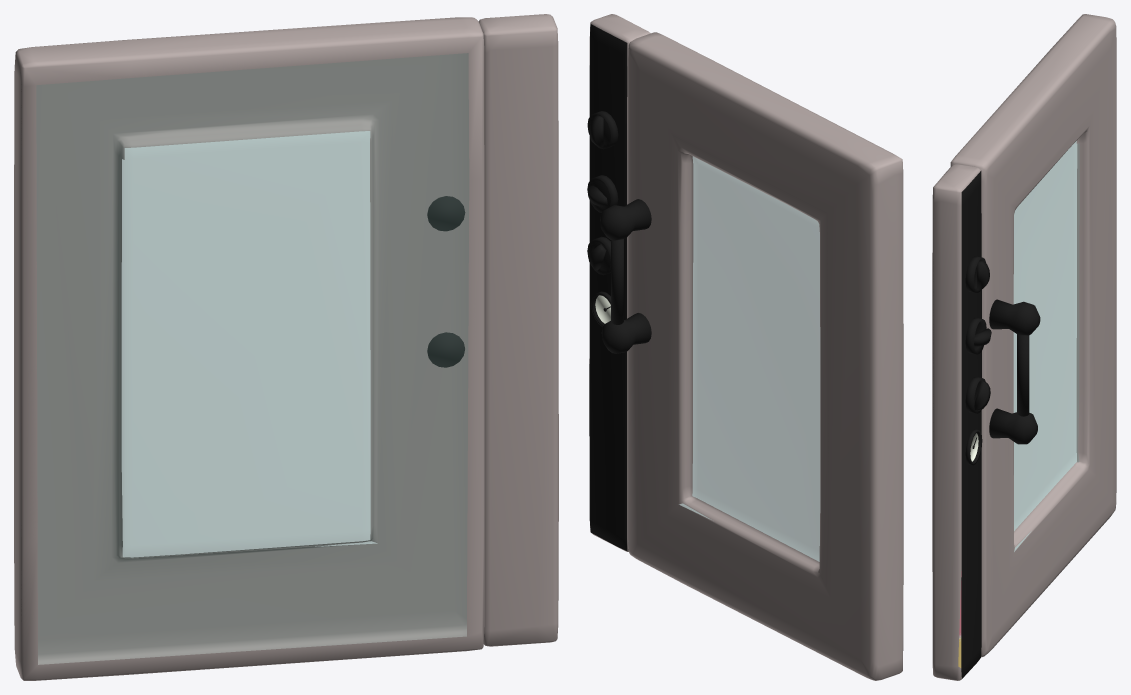
File: BakeryOvenDoor2fbx.fbx
3 renders of one model, left to right at view 1: azimuth 30°, elevation 25°; view 2: azimuth 150°, elevation 25°; view 3: azimuth 270°, elevation 25°, orthographic. The views are drawn at different scales.
Visible parts, largest first — view 1: Oven.001; view 2: Oven.001; view 3: Oven.001.
Boxes of the visible parts, bbox=[...] form: Oven.001: bbox=[14, 14, 558, 680]; Oven.001: bbox=[587, 14, 903, 680]; Oven.001: bbox=[932, 14, 1116, 680].
Size of the model in its own units: 219 by 286 by 96.22.
